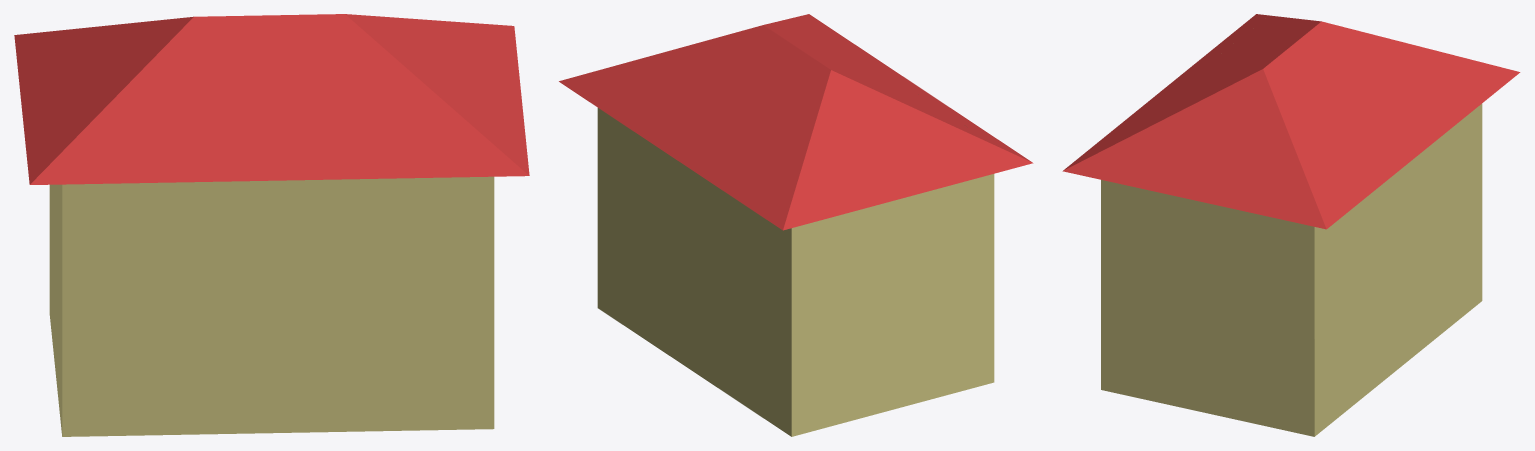
3 views of the same model, side by side, from view 1: azimuth 30°, elevation 25°; view 2: azimuth 150°, elevation 25°; view 3: azimuth 270°, elevation 25° (orthographic). The views are drawn at different scales.
Parts seen in each view (by area): view 1: group_5, group_3, group_4; view 2: group_5, group_3, group_4; view 3: group_5, group_3, group_4.
Boxes of the visible parts, <box> form: group_5: <box>49,176,494,436</box>; group_3: <box>47,14,529,184</box>; group_4: <box>14,23,529,184</box>; group_5: <box>597,108,994,436</box>; group_3: <box>559,14,993,229</box>; group_4: <box>560,15,1032,230</box>; group_5: <box>1101,103,1482,436</box>; group_3: <box>1062,15,1481,228</box>; group_4: <box>1064,14,1520,229</box>.
Bounding box in the file's own units: 17.87 × 16.06 × 11.58.
